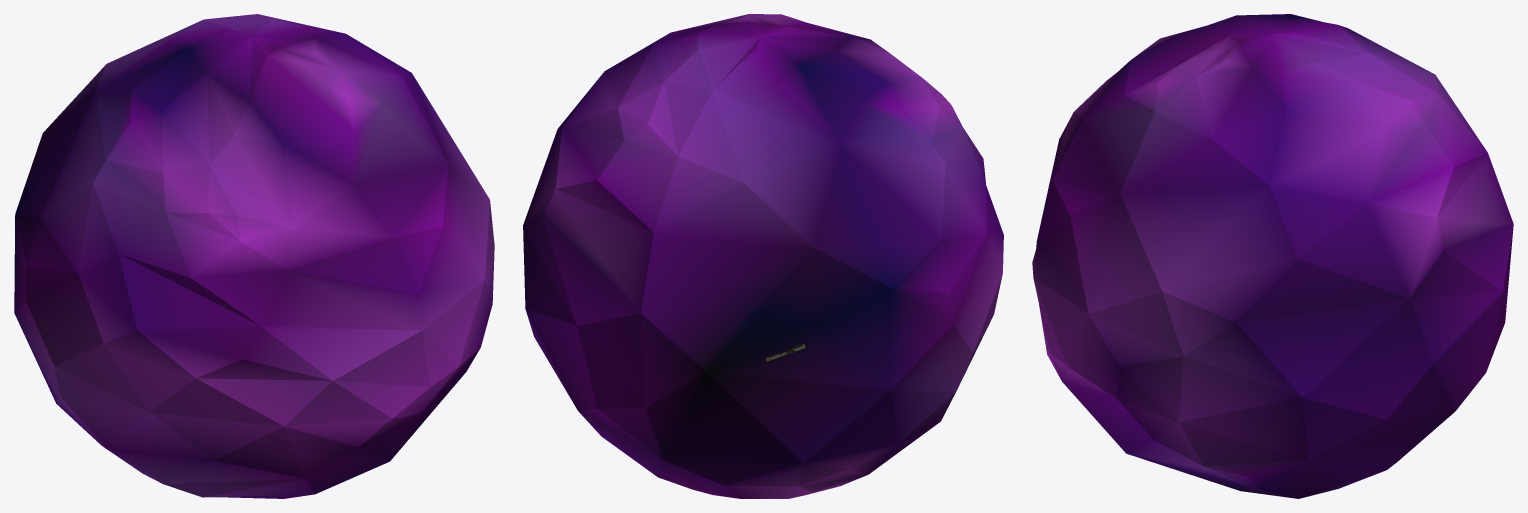
3 renders of one model, left to right at view 1: azimuth 30°, elevation 25°; view 2: azimuth 150°, elevation 25°; view 3: azimuth 270°, elevation 25°, orthographic.
Visible parts, largest first — view 1: part4; view 2: part4; view 3: part4.
Boxes of the visible parts, x1,y1,x2,y2 form: part4: [14, 14, 494, 498]; part4: [523, 14, 1003, 498]; part4: [1032, 14, 1513, 498].
Bounding box in the file's own units: 12.82 × 13.03 × 12.81.
36 materials, 34 textured.
